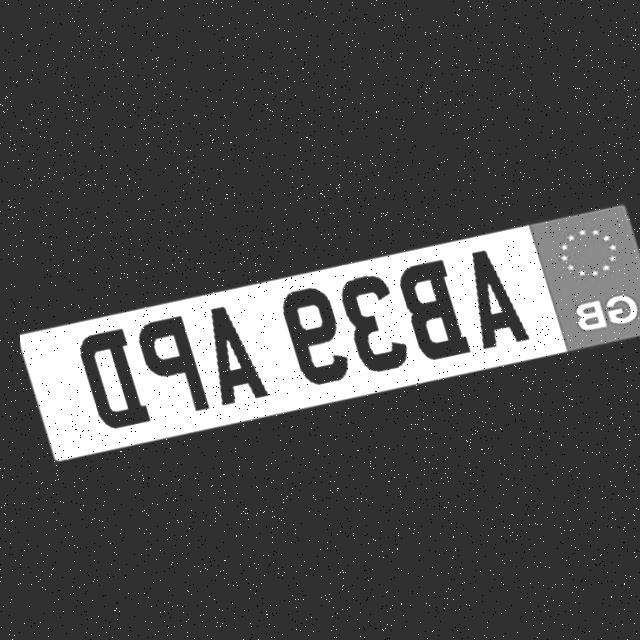license-plates: (20, 204, 640, 458)
